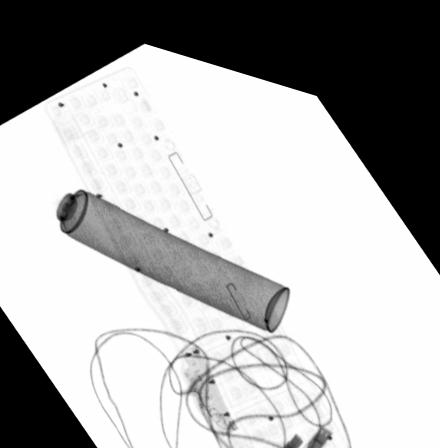Sprayer: (33, 172, 292, 318)
